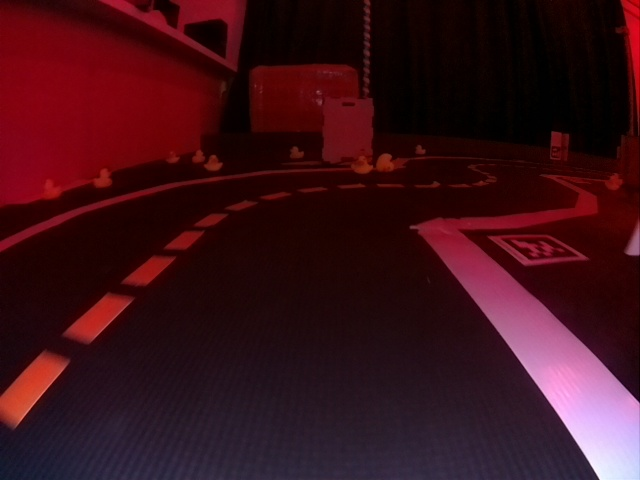Duckie: (351, 156, 370, 173), (43, 180, 60, 197), (95, 169, 111, 187), (205, 156, 222, 171), (379, 154, 393, 172), (290, 147, 303, 158), (605, 179, 619, 189), (193, 151, 204, 162), (168, 153, 178, 161), (415, 145, 425, 153)
QR code: (490, 235, 587, 265)
